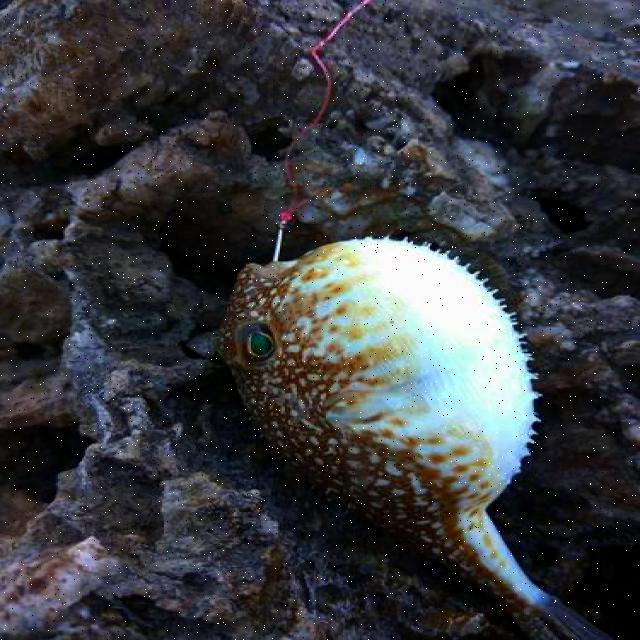Balik: (219, 240, 607, 639)
